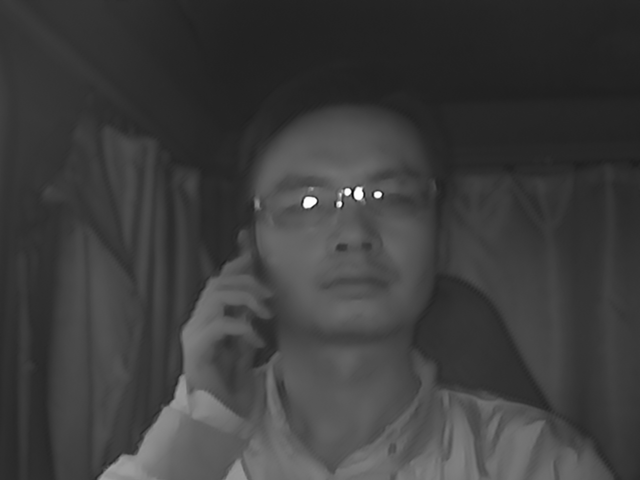hand: (179, 250, 273, 407)
